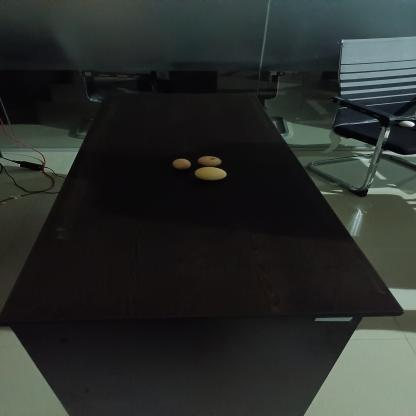egg: (192, 164, 230, 182), (196, 153, 224, 168), (171, 157, 193, 171)
